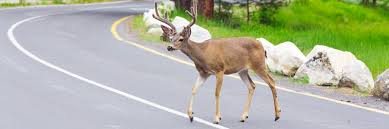deer: (152, 2, 283, 121)
